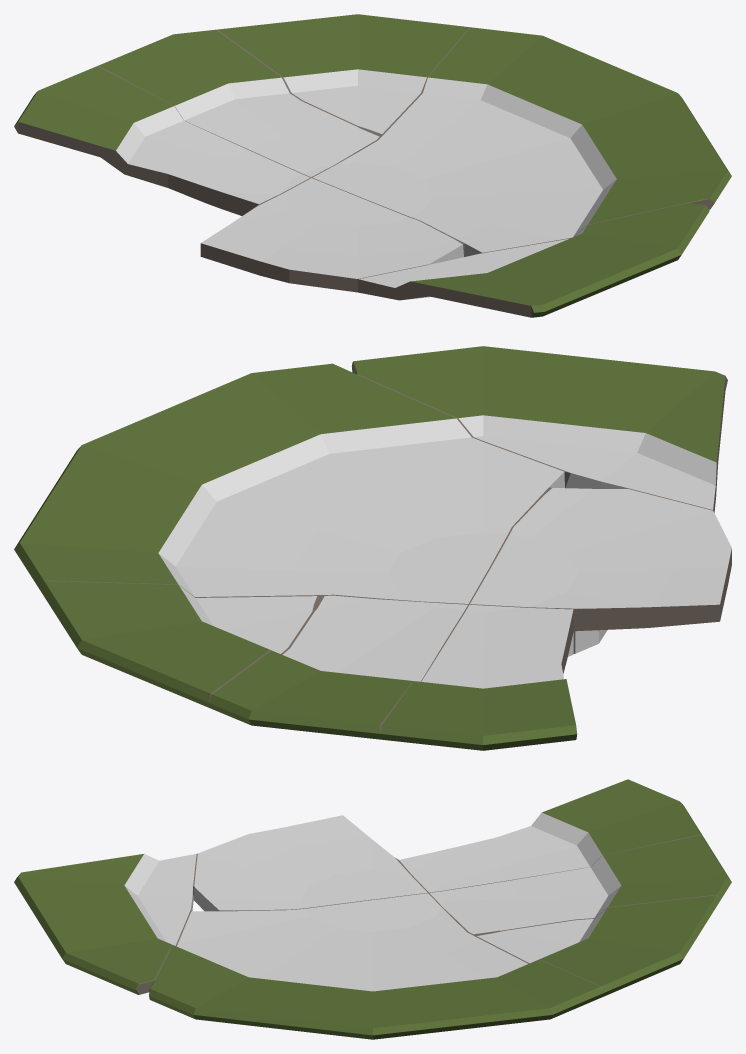
The picture shows the model from 3 angles, top to bottom: view 1: azimuth 30°, elevation 25°; view 2: azimuth 150°, elevation 25°; view 3: azimuth 270°, elevation 25°; orthographic projection. The views are drawn at different scales.
Parts seen in each view (by area): view 1: BrokenPlate; view 2: BrokenPlate; view 3: BrokenPlate.
Boxes of the visible parts, left/top/right/bottom form: BrokenPlate: left=14, top=14, right=731, bottom=317; BrokenPlate: left=14, top=346, right=731, bottom=750; BrokenPlate: left=14, top=779, right=731, bottom=1039.
Bounding box in the file's own units: 0.1501 × 0.0166 × 0.1824.
